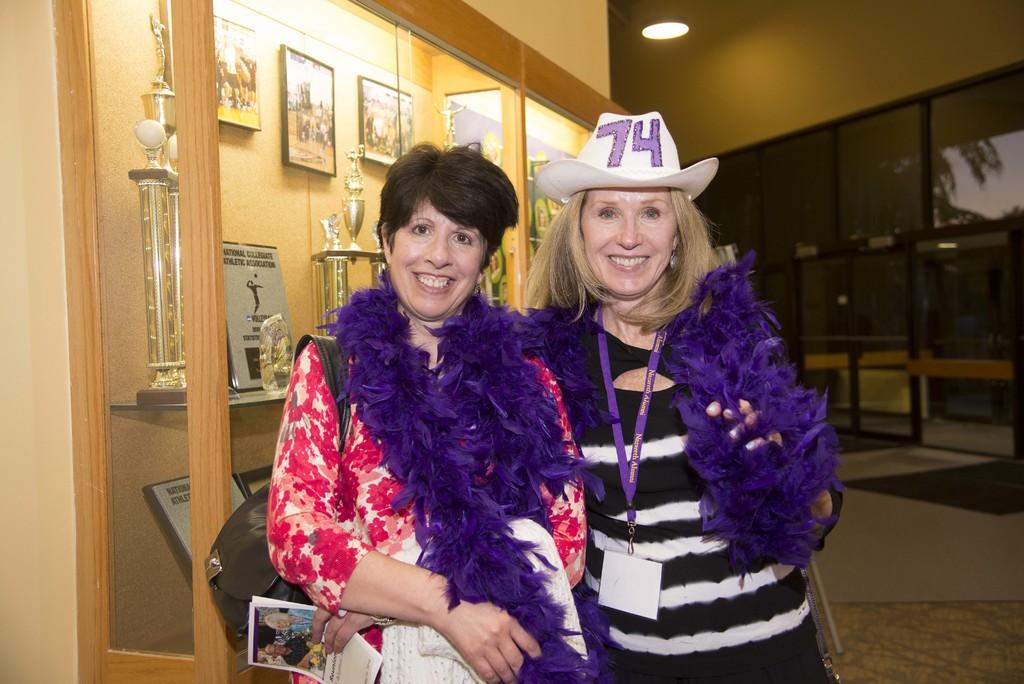Hat: (532, 106, 718, 205)
